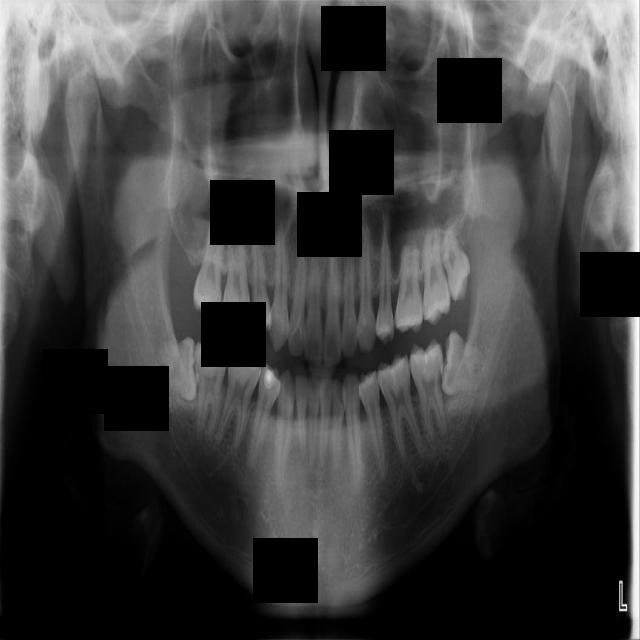52: (257, 362, 283, 405), (251, 294, 271, 333), (437, 368, 443, 393)
73: (605, 594, 615, 616)
BioHorizons Implant: (421, 215, 453, 324)
BioLife Implant: (437, 221, 476, 302)
Biomet 3i Implant: (440, 330, 488, 398)
Blue Sky Bio Implant: (408, 337, 448, 443)
Caries: (192, 221, 225, 323)
Implant: (190, 334, 229, 444)
Keystone Dental Implant: (154, 336, 200, 400)
